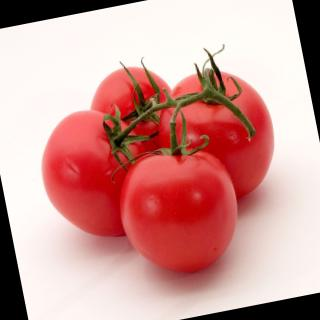Tomat: (142, 55, 290, 223), (107, 132, 253, 288), (31, 97, 175, 250)
